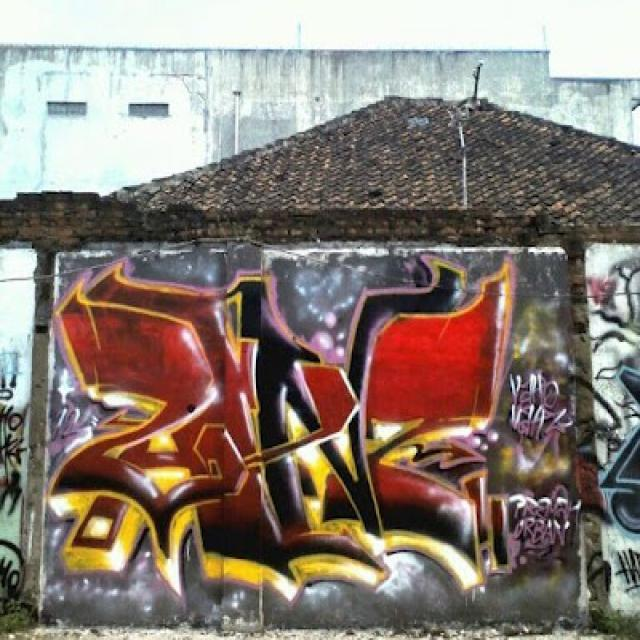-: (47, 258, 501, 604), (589, 256, 640, 602), (0, 374, 26, 606), (502, 491, 570, 562), (510, 372, 570, 452)
